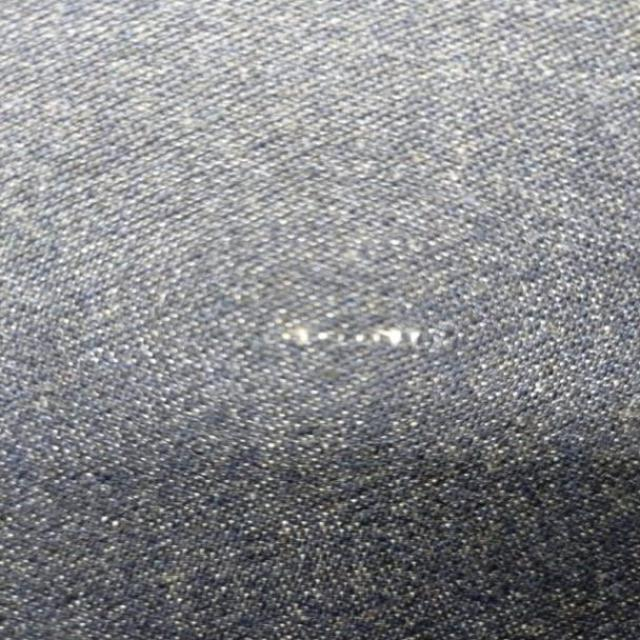Knot: (281, 326, 429, 348)
